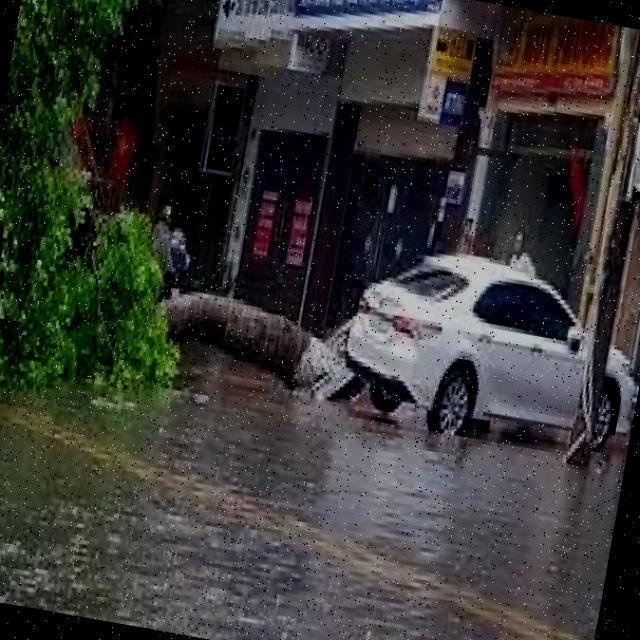fallen_object: (39, 225, 365, 423)
